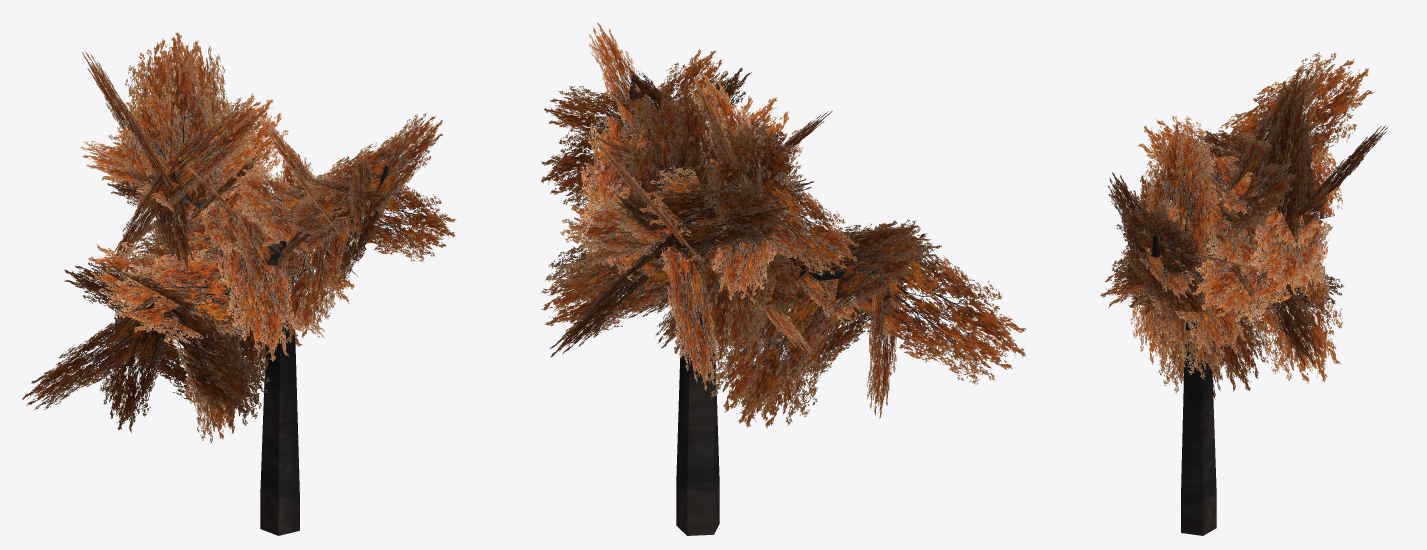
Rendered from Tree3.fbx.
3 renders of one model, left to right at view 1: azimuth 30°, elevation 25°; view 2: azimuth 150°, elevation 25°; view 3: azimuth 270°, elevation 25°, orthographic. The views are drawn at different scales.
Parts seen in each view (by area): view 1: Cylinder.002, Cylinder.002|Plane.001|Dupli|74, Cylinder.002|Plane.001|Dupli|10, Cylinder.002|Plane.001|Dupli|67, Cylinder.002|Plane.001|Dupli|5, Cylinder.002|Plane.001|Dupli|71, Cylinder.002|Plane.001|Dupli|43, Cylinder.002|Plane.001|Dupli|41, Cylinder.002|Plane.001|Dupli|21, Cylinder.002|Plane.001|Dupli|72, Cylinder.002|Plane.001|Dupli|30, Cylinder.002|Plane.001|Dupli|39 (+30 smaller); view 2: Cylinder.002|Plane.001|Dupli|71, Cylinder.002, Cylinder.002|Plane.001|Dupli|2, Cylinder.002|Plane.001|Dupli|55, Cylinder.002|Plane.001|Dupli|63, Cylinder.002|Plane.001|Dupli|54, Cylinder.002|Plane.001|Dupli|19, Cylinder.002|Plane.001|Dupli|23, Cylinder.002|Plane.001|Dupli|14, Cylinder.002|Plane.001|Dupli|, Cylinder.002|Plane.001|Dupli|73, Cylinder.002|Plane.001|Dupli|68 (+29 smaller); view 3: Cylinder.002, Cylinder.002|Plane.001|Dupli|23, Cylinder.002|Plane.001|Dupli|40, Cylinder.002|Plane.001|Dupli|64, Cylinder.002|Plane.001|Dupli|55, Cylinder.002|Plane.001|Dupli|58, Cylinder.002|Plane.001|Dupli|60, Cylinder.002|Plane.001|Dupli|31, Cylinder.002|Plane.001|Dupli|9, Cylinder.002|Plane.001|Dupli|29, Cylinder.002|Plane.001|Dupli|10, Cylinder.002|Plane.001|Dupli|17 (+22 smaller).
Part boxes in pixels (<box>): Cylinder.002: <box>141,165,388,535</box>; Cylinder.002|Plane.001|Dupli|74: <box>116,304,270,414</box>; Cylinder.002|Plane.001|Dupli|10: <box>122,36,222,207</box>; Cylinder.002|Plane.001|Dupli|67: <box>115,248,249,345</box>; Cylinder.002|Plane.001|Dupli|5: <box>211,206,298,361</box>; Cylinder.002|Plane.001|Dupli|71: <box>22,295,154,409</box>; Cylinder.002|Plane.001|Dupli|43: <box>276,204,352,342</box>; Cylinder.002|Plane.001|Dupli|41: <box>345,186,456,262</box>; Cylinder.002|Plane.001|Dupli|21: <box>162,97,267,205</box>; Cylinder.002|Plane.001|Dupli|72: <box>99,301,168,432</box>; Cylinder.002|Plane.001|Dupli|30: <box>233,165,309,255</box>; Cylinder.002|Plane.001|Dupli|39: <box>356,113,443,214</box>; Cylinder.002|Plane.001|Dupli|71: <box>852,227,1026,385</box>; Cylinder.002: <box>629,92,877,535</box>; Cylinder.002|Plane.001|Dupli|2: <box>706,259,840,423</box>; Cylinder.002|Plane.001|Dupli|55: <box>619,81,730,234</box>; Cylinder.002|Plane.001|Dupli|63: <box>649,179,790,259</box>; Cylinder.002|Plane.001|Dupli|54: <box>541,227,698,333</box>; Cylinder.002|Plane.001|Dupli|19: <box>755,170,859,276</box>; Cylinder.002|Plane.001|Dupli|23: <box>702,118,799,235</box>; Cylinder.002|Plane.001|Dupli|14: <box>693,235,779,360</box>; Cylinder.002|Plane.001|Dupli|: <box>661,246,719,390</box>; Cylinder.002|Plane.001|Dupli|73: <box>833,219,922,312</box>; Cylinder.002|Plane.001|Dupli|68: <box>722,259,855,428</box>; Cylinder.002: <box>1150,201,1250,535</box>; Cylinder.002|Plane.001|Dupli|23: <box>1216,52,1373,171</box>; Cylinder.002|Plane.001|Dupli|40: <box>1141,122,1217,257</box>; Cylinder.002|Plane.001|Dupli|64: <box>1241,242,1342,383</box>; Cylinder.002|Plane.001|Dupli|55: <box>1258,82,1313,252</box>; Cylinder.002|Plane.001|Dupli|58: <box>1190,228,1307,322</box>; Cylinder.002|Plane.001|Dupli|60: <box>1250,203,1332,292</box>; Cylinder.002|Plane.001|Dupli|31: <box>1192,230,1268,391</box>; Cylinder.002|Plane.001|Dupli|9: <box>1138,115,1265,225</box>; Cylinder.002|Plane.001|Dupli|29: <box>1164,238,1247,355</box>; Cylinder.002|Plane.001|Dupli|10: <box>1221,69,1319,197</box>; Cylinder.002|Plane.001|Dupli|17: <box>1226,160,1297,233</box>.
Bounding box in the file's own units: 10823 × 10477 × 6823.
